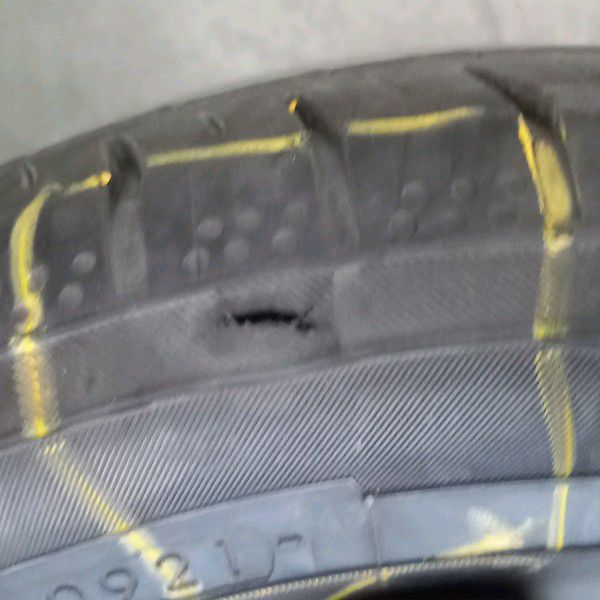CBU: (176, 281, 371, 365)
cut: (222, 305, 319, 335)
